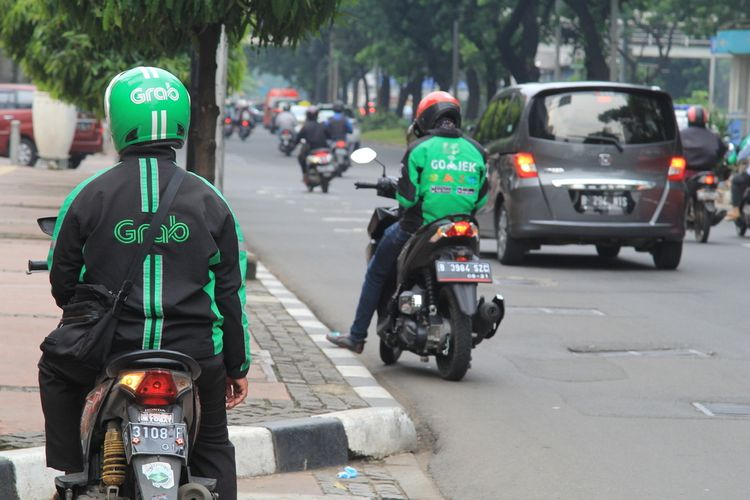plate: (116, 426, 192, 463), (437, 259, 491, 281), (581, 194, 628, 212), (697, 190, 720, 200), (317, 164, 334, 175), (335, 148, 346, 156), (279, 134, 292, 140)
